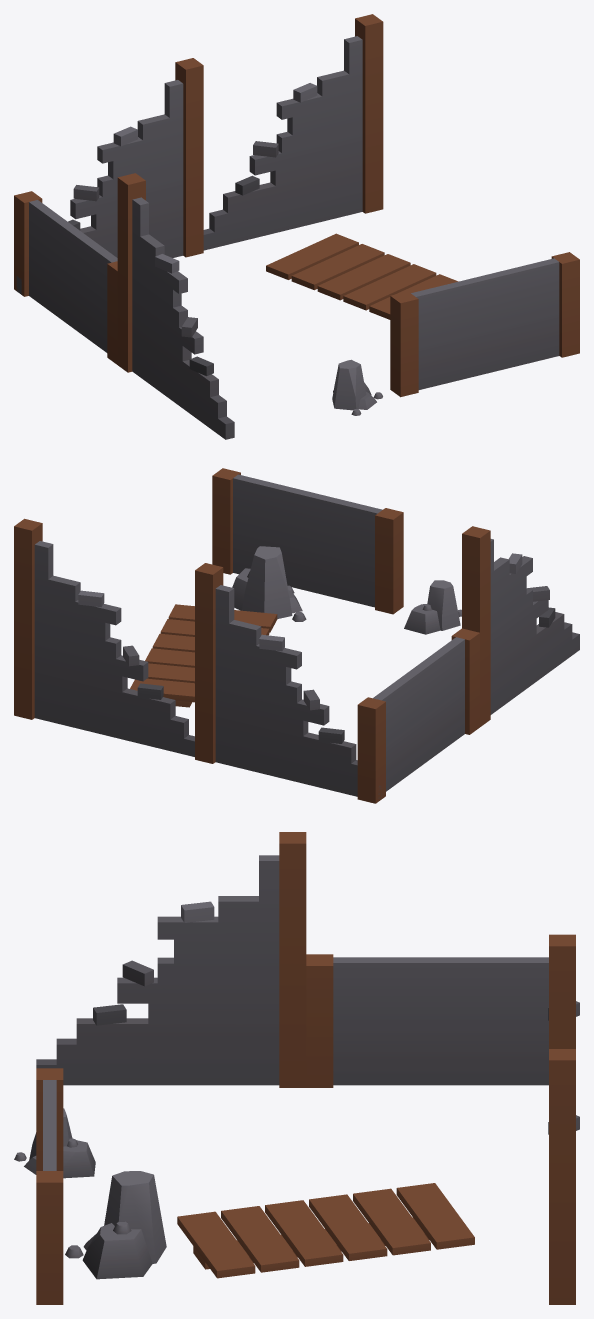
File: maison-ruine-1.glb
3 views of the same model, one above another, from view 1: azimuth 30°, elevation 25°; view 2: azimuth 150°, elevation 25°; view 3: azimuth 270°, elevation 25° (orthographic). The views are drawn at different scales.
Parts seen in each view (by area): view 1: wall-broken; view 2: wall-broken; view 3: wall-broken.
Boxes of the visible parts, x1,y1,x2,y2 form: wall-broken: (14, 14, 579, 439); wall-broken: (14, 468, 579, 803); wall-broken: (14, 832, 579, 1304).
Size of the model in its own units: 6.04 by 3 by 6.29.
1 material, 1 textured.
